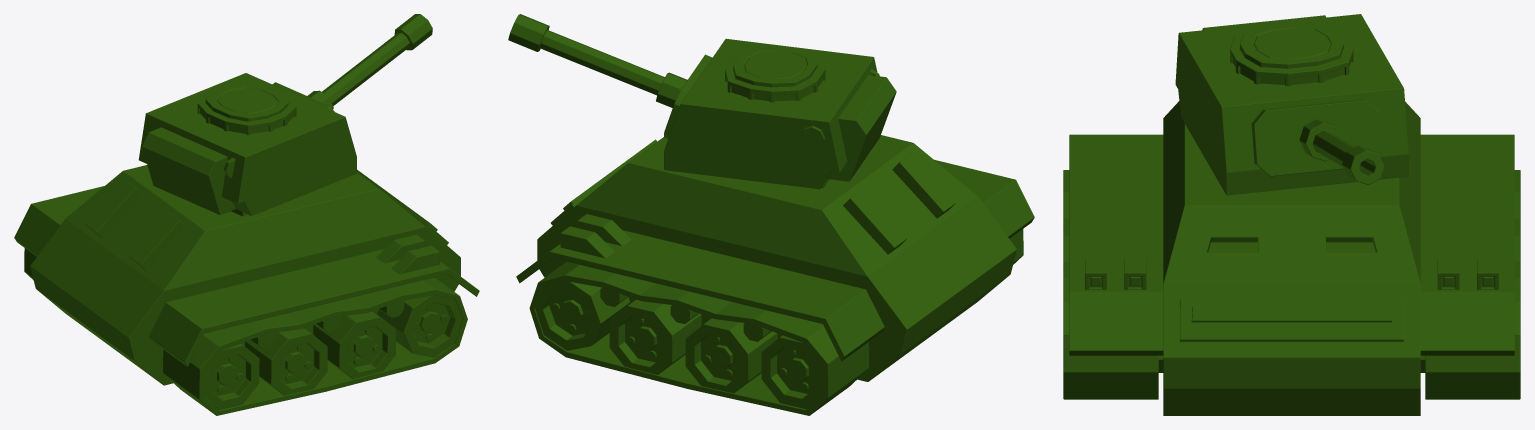
File: tank2.fbx
3 renders of one model, left to right at view 1: azimuth 30°, elevation 25°; view 2: azimuth 150°, elevation 25°; view 3: azimuth 270°, elevation 25°, orthographic. The views are drawn at different scales.
Parts seen in each view (by area): view 1: Cube, Cube.001; view 2: Cube, Cube.001; view 3: Cube, Cube.001.
Part boxes in pixels (x1=…): Cube: x1=14, y1=158, x2=479, y2=415; Cube.001: x1=138, y1=14, x2=432, y2=216; Cube: x1=516, y1=68, x2=1034, y2=415; Cube.001: x1=508, y1=14, x2=896, y2=189; Cube: x1=1063, y1=101, x2=1520, y2=415; Cube.001: x1=1175, y1=14, x2=1408, y2=195.
Size of the model in its own units: 718 by 438 by 577.
